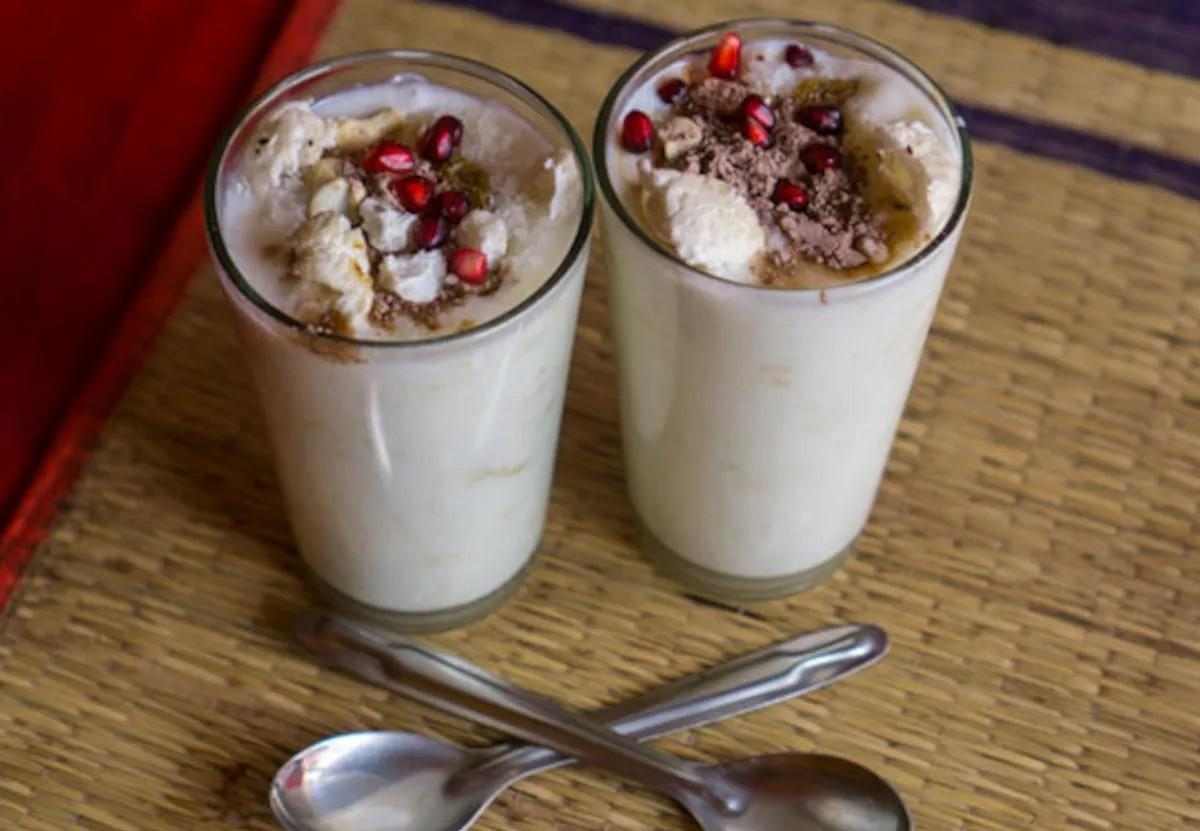Lassi: (216, 80, 592, 609), (601, 36, 964, 576)
